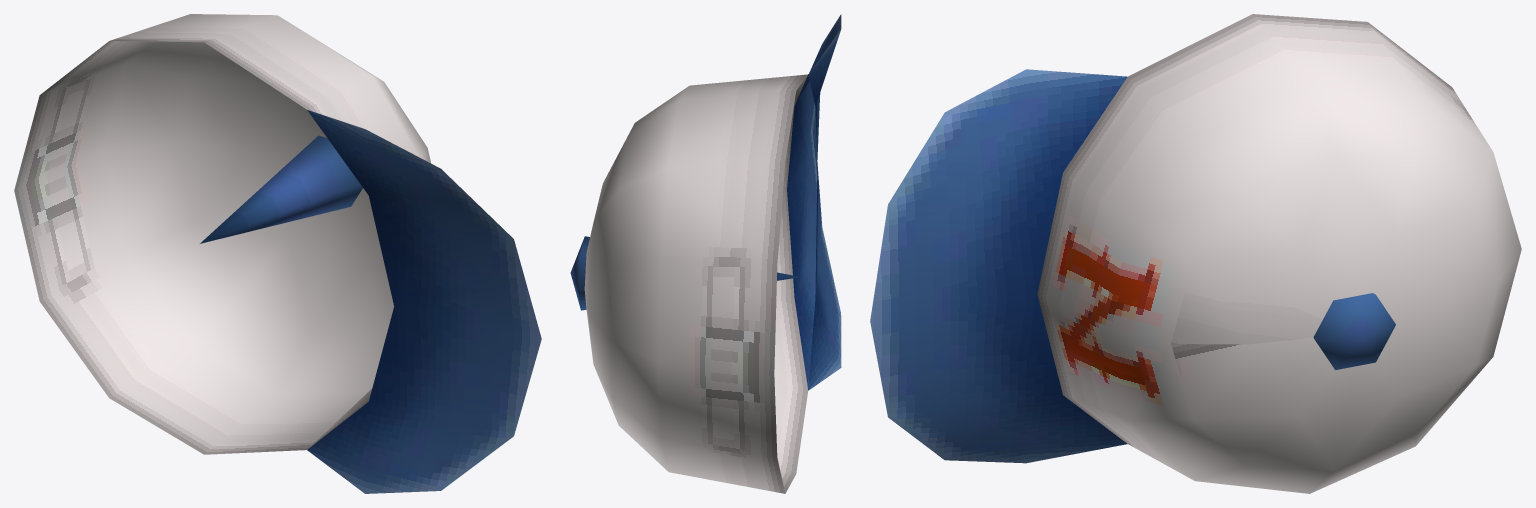
File: cap_cap_wht.dae
3 views of the same model, side by side, from view 1: azimuth 30°, elevation 25°; view 2: azimuth 150°, elevation 25°; view 3: azimuth 270°, elevation 25° (orthographic). The views are drawn at different scales.
Parts seen in each view (by area): view 1: cap_cap_wht; view 2: cap_cap_wht; view 3: cap_cap_wht.
Boxes of the visible parts, x1,y1,x2,y2 form: cap_cap_wht: (14,14,541,493); cap_cap_wht: (570,14,841,493); cap_cap_wht: (870,14,1521,493).
Size of the model in its own units: 15.43 by 21.14 by 28.04.
1 material, 1 textured.
